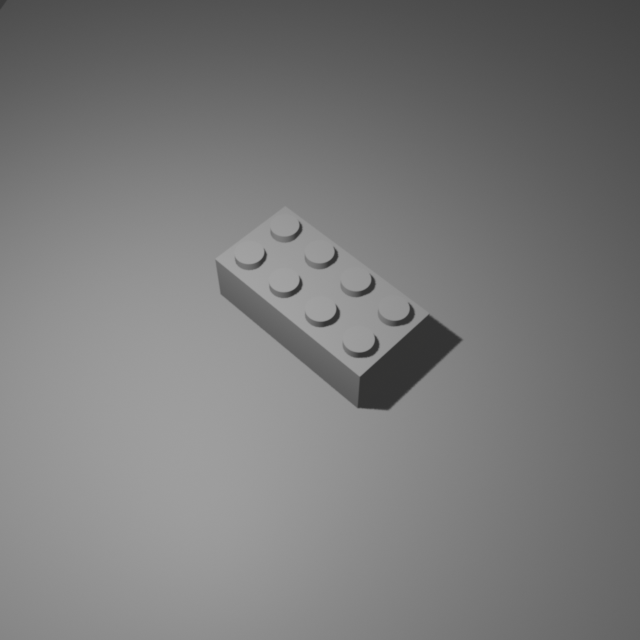lego_2x4: (214, 200, 431, 408)
